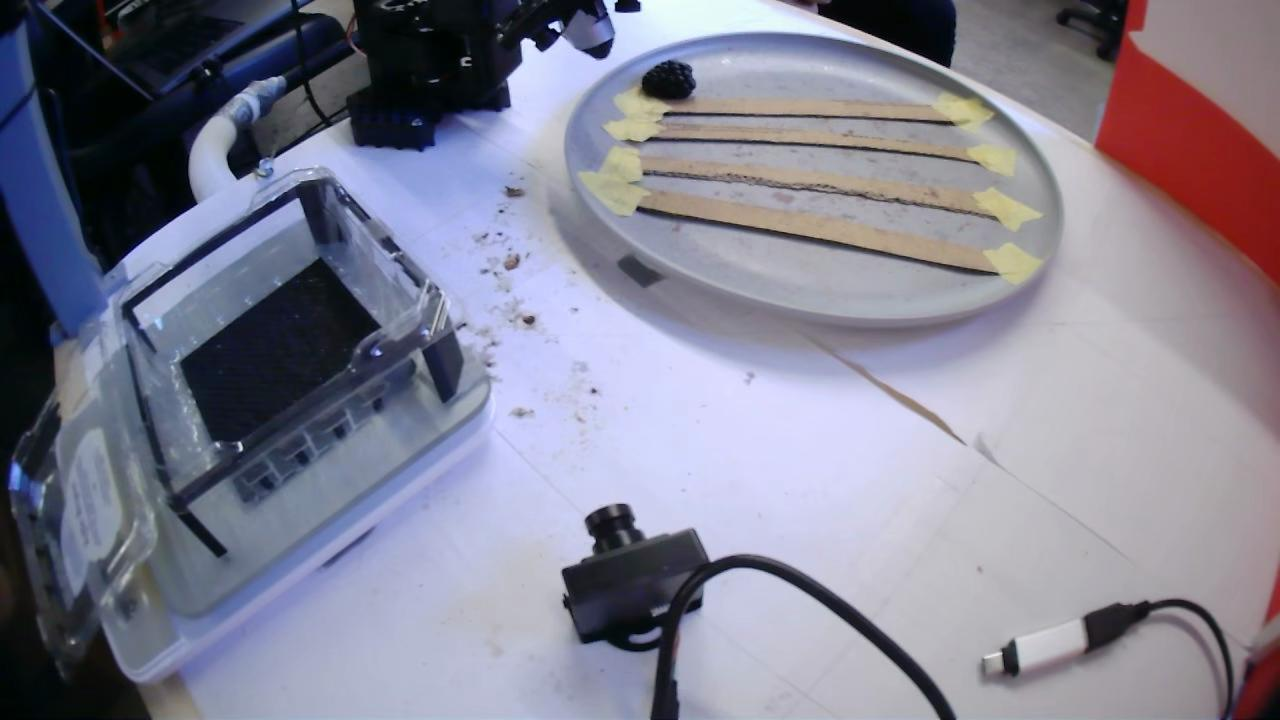berry: (640, 59, 696, 102)
